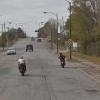Motorcycle: (14, 54, 33, 76)
